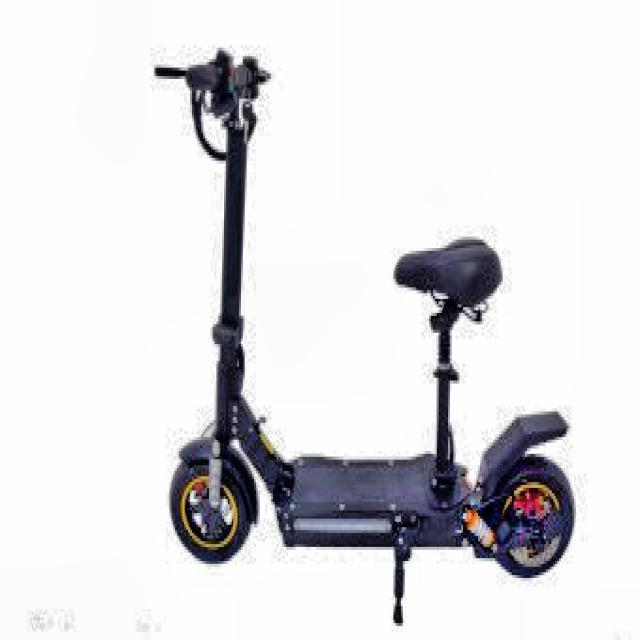bike: (161, 42, 583, 613)
